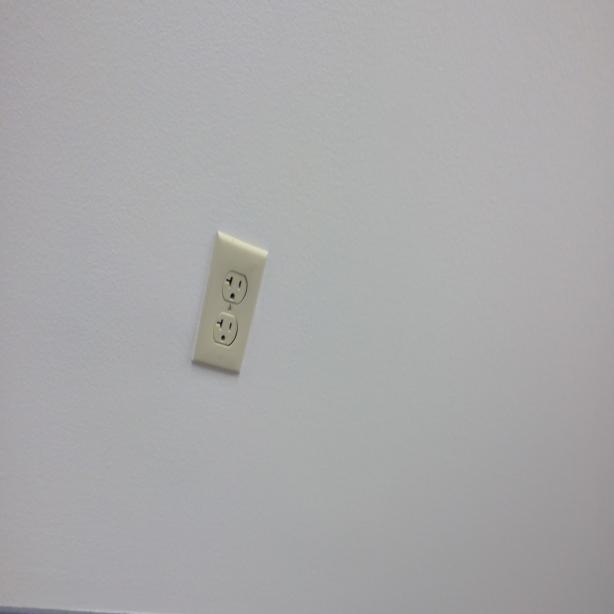typeb: (222, 270, 247, 307), (213, 314, 238, 348)
